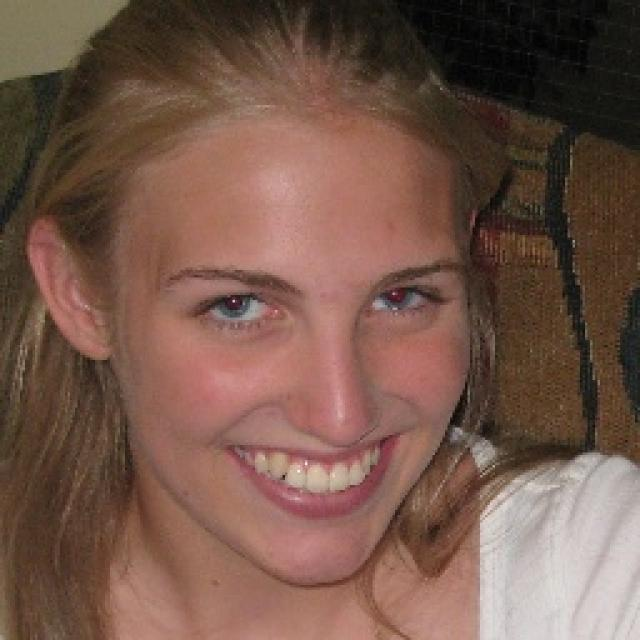earlobe: (73, 314, 116, 364)
eye: (194, 286, 288, 328), (364, 286, 444, 321)
nose: (279, 426, 376, 456)
wholeear: (28, 220, 115, 364)
